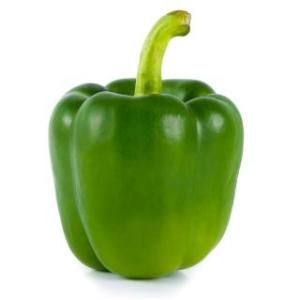bell_pepper: (40, 7, 250, 280)
